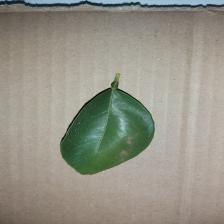healthy: (55, 85, 159, 176)
